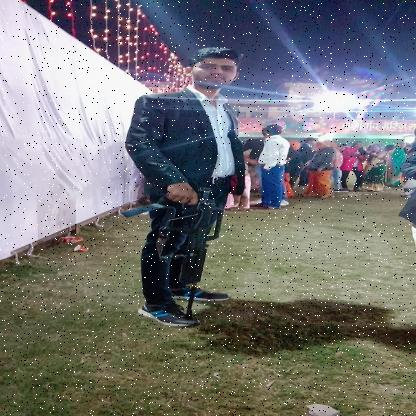rifle: (154, 186, 226, 322)
